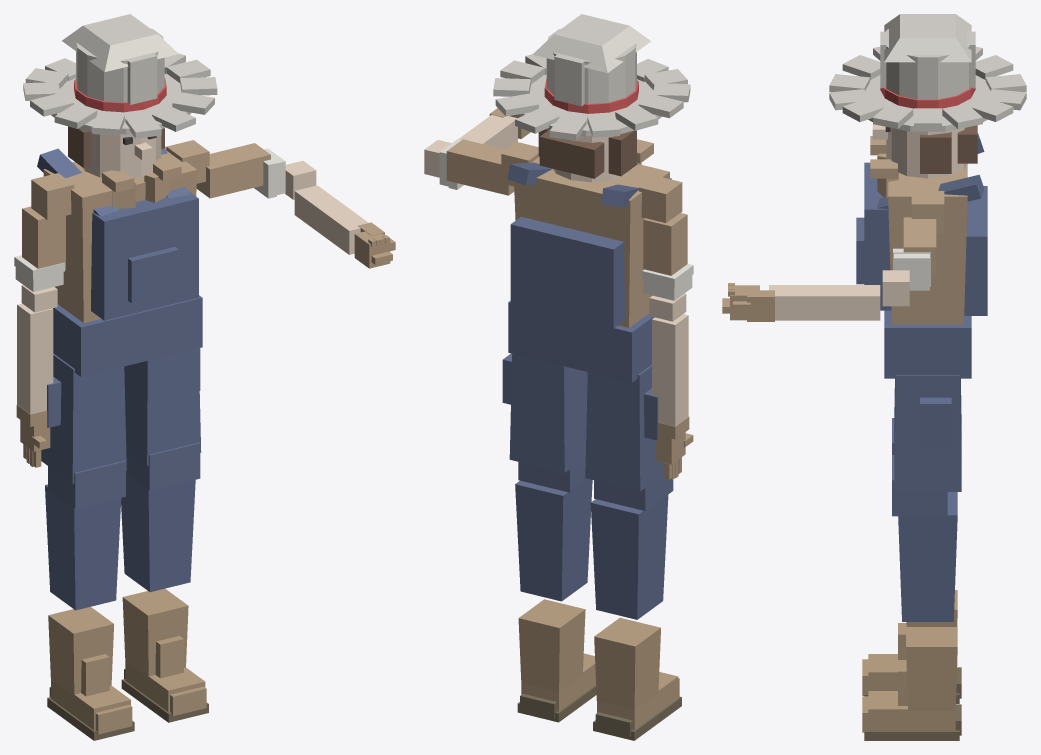
Rendered from avatar-farmer.glb.
3 views of the same model, side by side, from view 1: azimuth 30°, elevation 25°; view 2: azimuth 150°, elevation 25°; view 3: azimuth 270°, elevation 25° (orthographic).
Visible parts, largest first — view 1: AVT_F_Overalls_Bib, AVT_F_Overalls_Waist, AVT_F_Overalls_Shin_L, AVT_F_Overalls_Thigh_L, AVT_F_Overalls_Thigh_R, AVT_F_Overalls_Shin_R, AVT_F_Hat, AVT_F_Shirt_Torso, AVT_F_Boots_Shaft_L, AVT_F_Boots_Shaft_R, AVT_F_Shirt_Fore_L, AVT_F_Hat_CrownTop (+29 smaller); view 2: AVT_F_Overalls_Back, AVT_F_Shirt_Torso, AVT_F_Overalls_Thigh_R, AVT_F_Overalls_Shin_L, AVT_F_Overalls_Shin_R, AVT_F_Overalls_Waist, AVT_F_Hat, AVT_F_Overalls_Thigh_L, AVT_F_Boots_Shaft_R, AVT_F_Boots_Shaft_L, AVT_F_Shirt_Fore_L, AVT_F_Hat_CrownTop (+29 smaller); view 3: AVT_F_Hat, AVT_F_Shirt_Torso, AVT_F_Overalls_Thigh_R, AVT_F_Overalls_Shin_R, AVT_F_Overalls_Waist, AVT_F_Boots_Shaft_R, AVT_F_Shirt_Fore_R, AVT_F_Hat_CrownTop, AVT_F_Hat_Crown, AVT_F_Overalls_Back, AVT_F_Overalls_Bib, AVT_F_Boots_Foot_R (+17 smaller).
Part boxes in pixels (x1,y1,x2,y2): AVT_F_Overalls_Bib: [91, 191, 198, 320]; AVT_F_Overalls_Waist: [53, 295, 202, 376]; AVT_F_Overalls_Shin_L: [45, 484, 121, 610]; AVT_F_Overalls_Thigh_L: [41, 353, 126, 483]; AVT_F_Overalls_Thigh_R: [124, 348, 201, 465]; AVT_F_Overalls_Shin_R: [121, 474, 195, 592]; AVT_F_Hat: [23, 53, 217, 138]; AVT_F_Shirt_Torso: [43, 146, 197, 322]; AVT_F_Boots_Shaft_L: [48, 606, 113, 695]; AVT_F_Boots_Shaft_R: [122, 588, 188, 677]; AVT_F_Shirt_Fore_L: [17, 303, 53, 414]; AVT_F_Hat_CrownTop: [62, 14, 178, 72]; AVT_F_Overalls_Back: [510, 216, 625, 328]; AVT_F_Shirt_Torso: [514, 157, 669, 327]; AVT_F_Overalls_Thigh_R: [509, 354, 587, 472]; AVT_F_Overalls_Shin_L: [590, 495, 668, 619]; AVT_F_Overalls_Shin_R: [515, 479, 592, 601]; AVT_F_Overalls_Waist: [508, 301, 654, 382]; AVT_F_Hat: [493, 54, 690, 140]; AVT_F_Overalls_Thigh_L: [585, 365, 663, 491]; AVT_F_Boots_Shaft_R: [518, 599, 585, 691]; AVT_F_Boots_Shaft_L: [594, 617, 660, 709]; AVT_F_Shirt_Fore_L: [652, 314, 688, 426]; AVT_F_Hat_CrownTop: [532, 14, 650, 72]; AVT_F_Hat: [829, 46, 1026, 129]; AVT_F_Shirt_Torso: [888, 164, 967, 324]; AVT_F_Overalls_Thigh_R: [894, 375, 961, 491]; AVT_F_Overalls_Shin_R: [898, 492, 957, 621]; AVT_F_Overalls_Waist: [884, 310, 971, 378]; AVT_F_Boots_Shaft_R: [906, 627, 957, 710]; AVT_F_Shirt_Fore_R: [769, 285, 880, 320]; AVT_F_Hat_CrownTop: [884, 14, 971, 62]; AVT_F_Hat_Crown: [882, 29, 973, 99]; AVT_F_Overalls_Back: [964, 186, 987, 315]; AVT_F_Overalls_Bib: [864, 162, 891, 310]; AVT_F_Boots_Foot_R: [868, 691, 955, 730].
Size of the model in its own units: 0.8085 by 1.91 by 0.7652.
